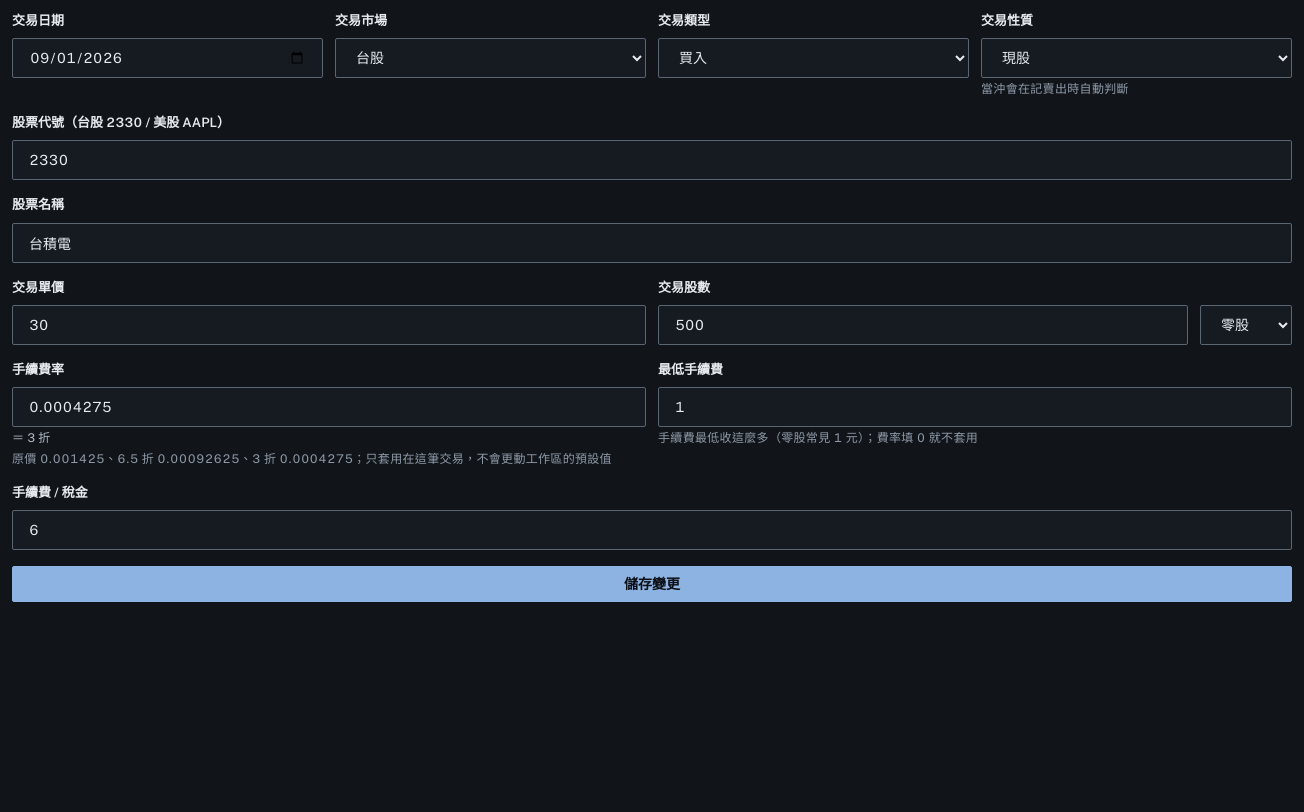
Test: M1 編輯整股交易時最低手續費照股數 › crossing 1,000 shares while editing switches the minimum
Replace the text in the number field labelled "交易股數" with "1000": (923, 325) [658,305,1188,345]
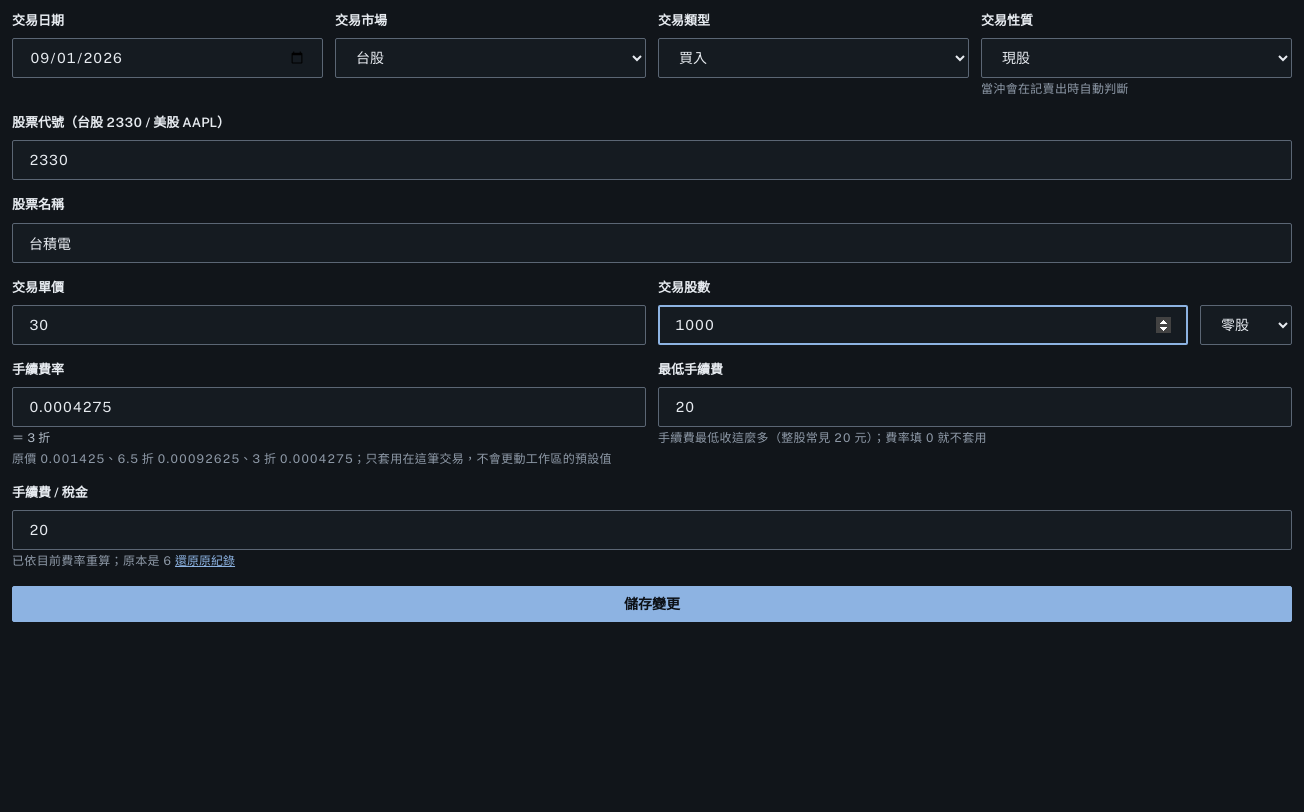
Result: the number field labelled "最低手續費" holds "20" at [658,387,1292,427]
